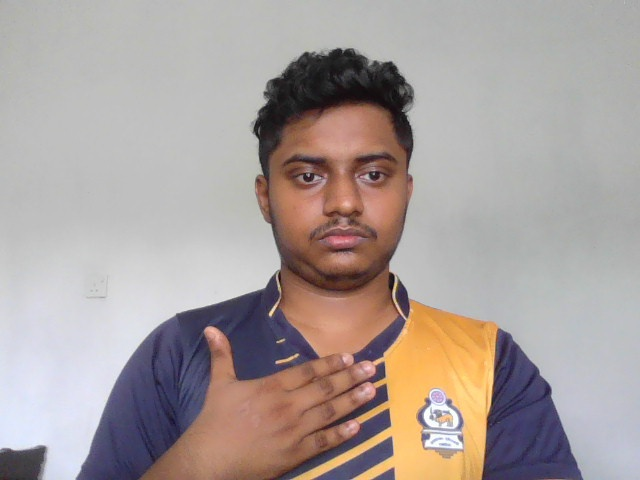Please: (202, 324, 377, 480)
